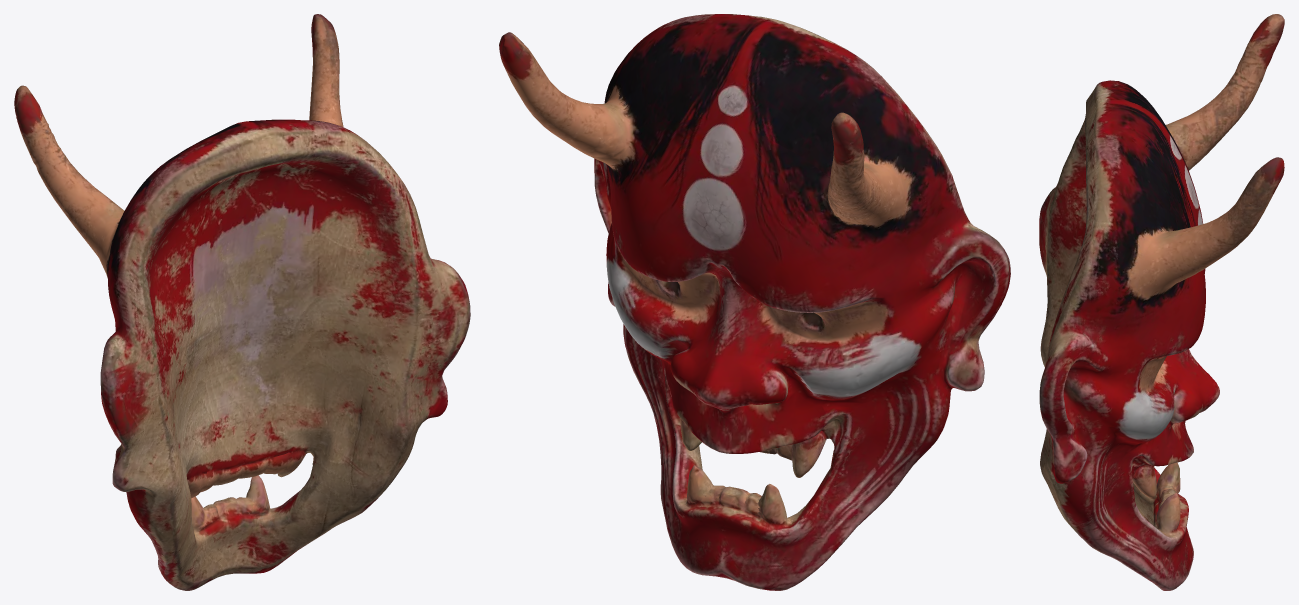
Rendered from spirit2.glb.
3 views of the same model, side by side, from view 1: azimuth 30°, elevation 25°; view 2: azimuth 150°, elevation 25°; view 3: azimuth 270°, elevation 25° (orthographic). The views are drawn at different scales.
Parts seen in each view (by area): view 1: Object_2; view 2: Object_2; view 3: Object_2.
Part boxes in pixels (left/top/right/bottom): Object_2: left=14, top=14, right=470, bottom=590; Object_2: left=499, top=14, right=1010, bottom=590; Object_2: left=1039, top=14, right=1284, bottom=590.
Size of the model in its own units: 1.38 by 1.76 by 0.8068.
Materials: 1 (1 with a texture image).
